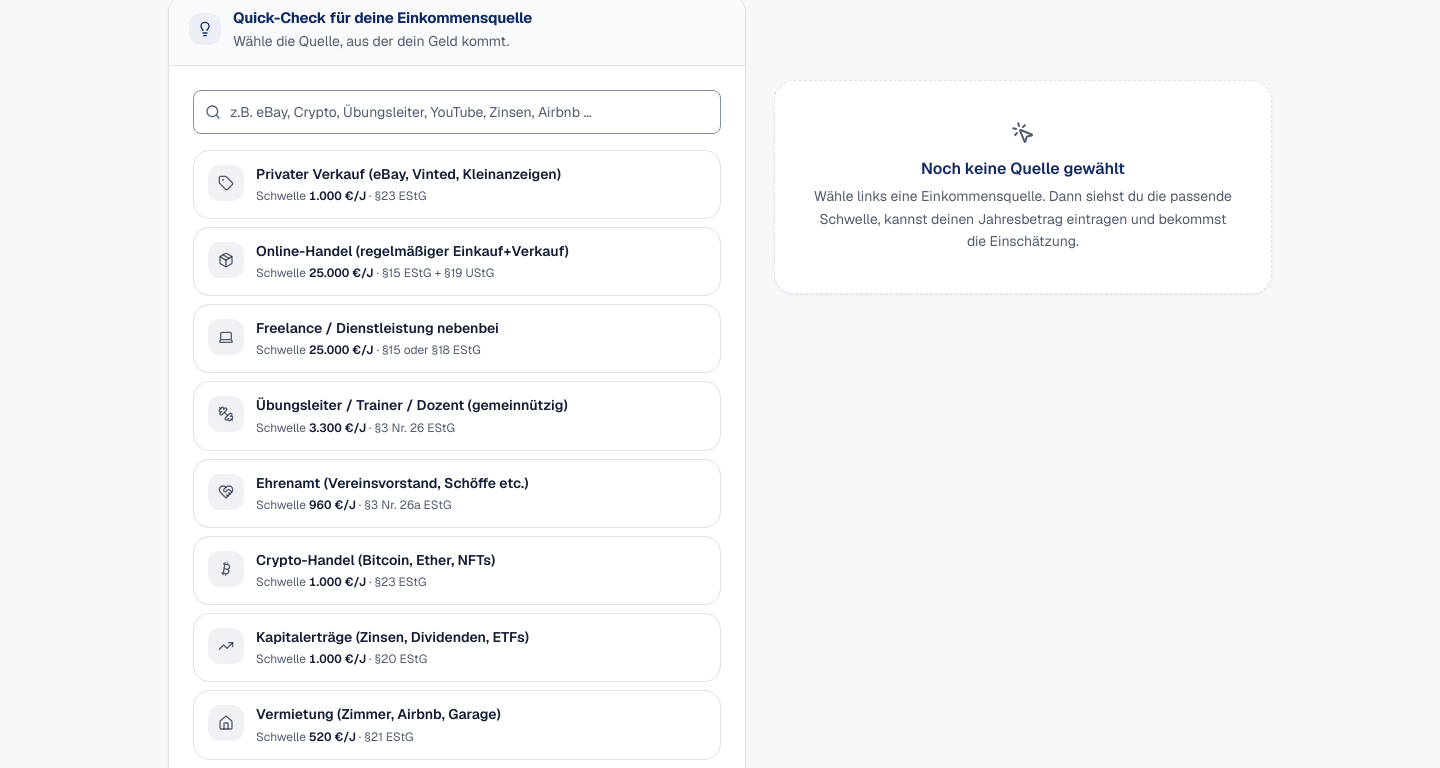
Test case: SchwellenCheck — Schwelle-Verdict mit Eingabe-Betrag › Übungsleiter 3.500 € → über Schwelle, Mehrbetrag versteuert
(page scrolled)
Click the text "Übungsleiter / Trainer / Dozent (gemeinnützig)".
click(412, 405)  # box [256,396,568,414]
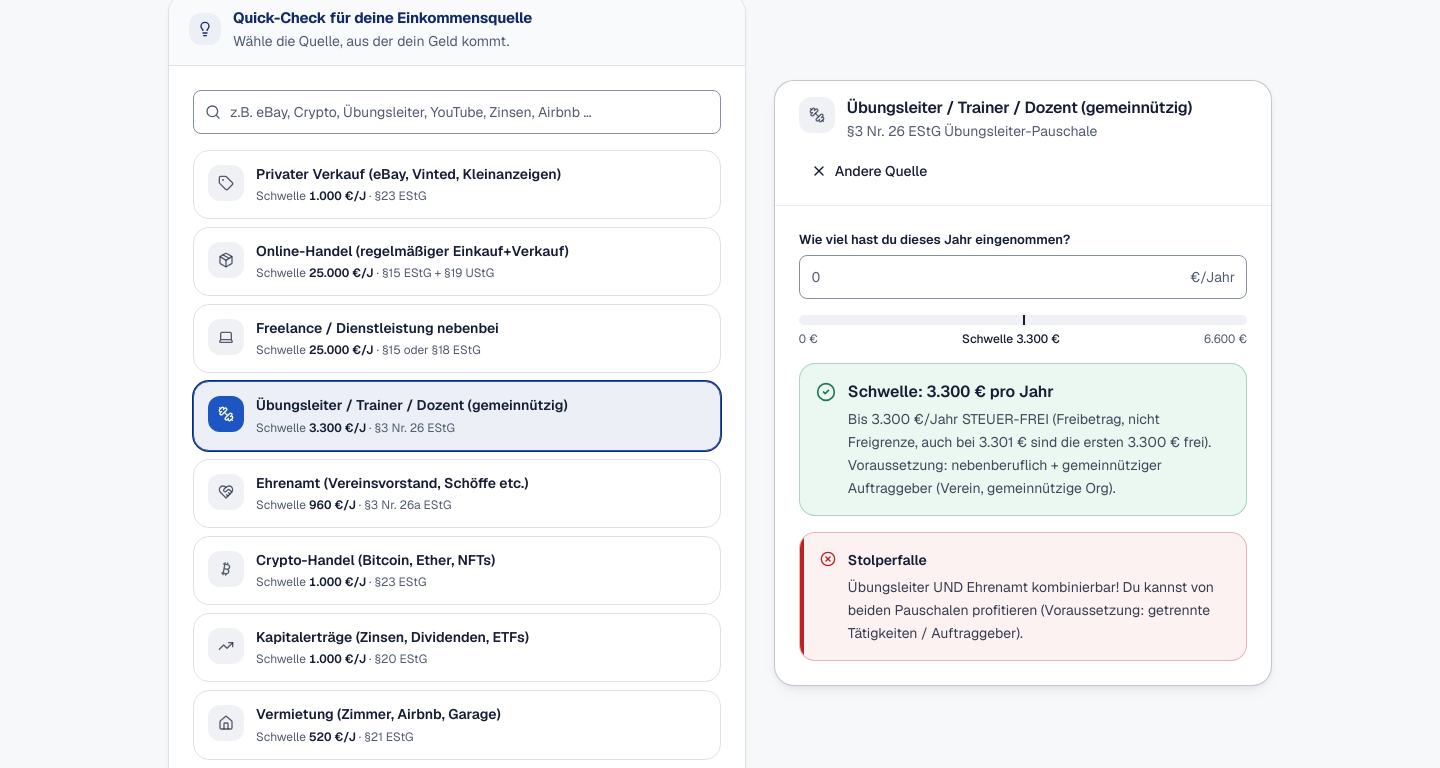
Type "3500" into the number field.
click(1023, 278); type("3500")  # box [799,256,1247,300]
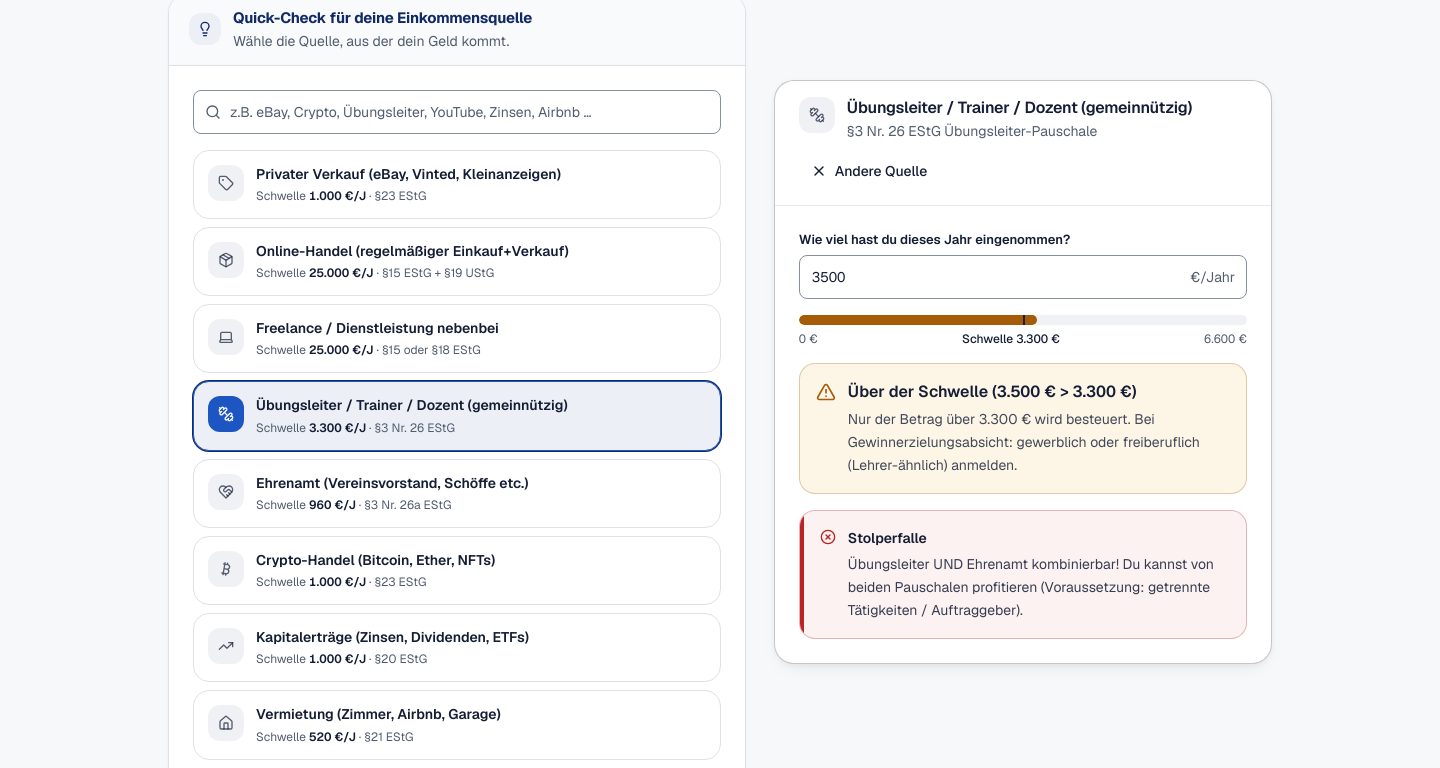
expect the text "Über der Schwelle (3.500 € > 3.300 €)" is shown: met, box [848,382,1137,402]
